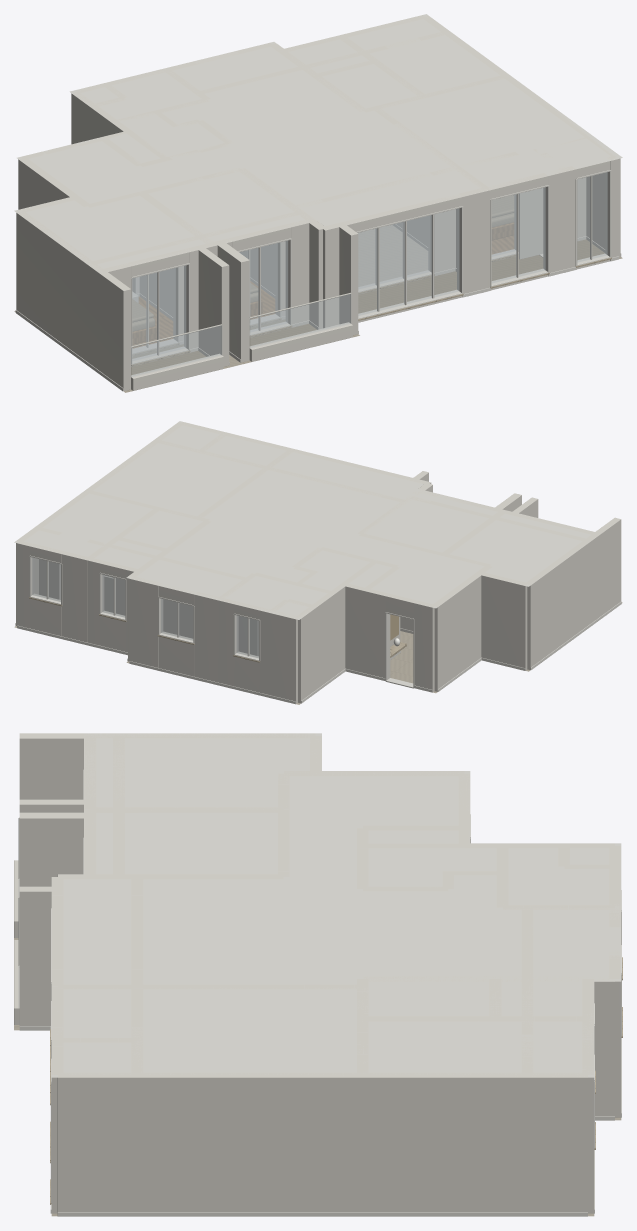
Rendered from acro112a-basic.glb.
The picture shows the model from 3 angles, top to bottom: view 1: azimuth 30°, elevation 25°; view 2: azimuth 150°, elevation 25°; view 3: azimuth 270°, elevation 25°; orthographic projection. The views are drawn at different scales.
Visible parts, largest first — view 1: Indoor ceiling, West bedroom outer wall pier, Living south facade glazing, Master south facade glazing, West bedroom outer glazing glazing, Living balcony threshold glazing, Open balcony shaft west pier, Center balcony glass guard, Center bedroom outer glazing glazing, Bedroom center east wall pier, East facade pier, Master south facade pier.001 (+37 smaller); view 2: Indoor ceiling, West bedroom outer wall pier, Entry west wall pier, West notch north pier, Entry north wall pier.001, Service west wall pier, North service facade pier, North kitchen facade pier.001, North dressing facade pier, North kitchen facade pier, Entry north wall pier, East facade pier (+25 smaller); view 3: Indoor ceiling, East facade pier, West bedroom outer wall pier, Open balcony shaft east pier, Open balcony east return pier, North east step pier, East facade skirting.001, Master living divider pier.001, Bedroom center east wall pier, North kitchen facade pier.001, Bedroom dividing wall pier, North dressing facade pier.001 (+10 smaller).
Boxes of the visible parts, left/top/right/bottom form: Indoor ceiling: left=14, top=14, right=622, bottom=273; West bedroom outer wall pier: left=16, top=211, right=130, bottom=391; Living south facade glazing: left=358, top=208, right=459, bottom=315; Master south facade glazing: left=492, top=187, right=545, bottom=283; West bedroom outer glazing glazing: left=132, top=266, right=185, bottom=360; Living balcony threshold glazing: left=358, top=216, right=430, bottom=288; Open balcony shaft west pier: left=198, top=246, right=229, bottom=366; Center balcony glass guard: left=250, top=294, right=350, bottom=347; Center bedroom outer glazing glazing: left=240, top=241, right=287, bottom=331; Bedroom center east wall pier: left=237, top=168, right=325, bottom=329; East facade pier: left=423, top=15, right=620, bottom=256; Master south facade pier.001: left=548, top=166, right=576, bottom=272; Indoor ceiling: left=14, top=421, right=590, bottom=619; West bedroom outer wall pier: left=524, top=517, right=621, bottom=670; Entry west wall pier: left=431, top=565, right=492, bottom=691; West notch north pier: left=481, top=572, right=527, bottom=670; Entry north wall pier.001: left=343, top=583, right=388, bottom=678; Service west wall pier: left=295, top=584, right=346, bottom=703; North service facade pier: left=259, top=608, right=297, bottom=703; North kitchen facade pier.001: left=129, top=577, right=161, bottom=667; North dressing facade pier: left=62, top=551, right=90, bottom=642; North kitchen facade pier: left=194, top=592, right=220, bottom=682; Entry north wall pier: left=414, top=600, right=435, bottom=691; East facade pier: left=16, top=422, right=183, bottom=625; Indoor ceiling: left=51, top=733, right=621, bottom=1077; East facade pier: left=57, top=1072, right=587, bottom=1212; West bedroom outer wall pier: left=19, top=733, right=315, bottom=799; Open balcony shaft east pier: left=19, top=812, right=89, bottom=886; Open balcony east return pier: left=19, top=886, right=57, bottom=1025; North east step pier: left=588, top=976, right=614, bottom=1116; East facade skirting.001: left=57, top=1212, right=587, bottom=1216; Master living divider pier.001: left=58, top=984, right=303, bottom=989; Bedroom center east wall pier: left=57, top=874, right=283, bottom=879; North kitchen facade pier.001: left=609, top=955, right=621, bottom=1117; Bedroom dividing wall pier: left=90, top=807, right=283, bottom=812; North dressing facade pier.001: left=582, top=1065, right=594, bottom=1213.
Bounding box in the file's own units: 13.88 × 2.62 × 10.35.
15 materials, 6 textured.
